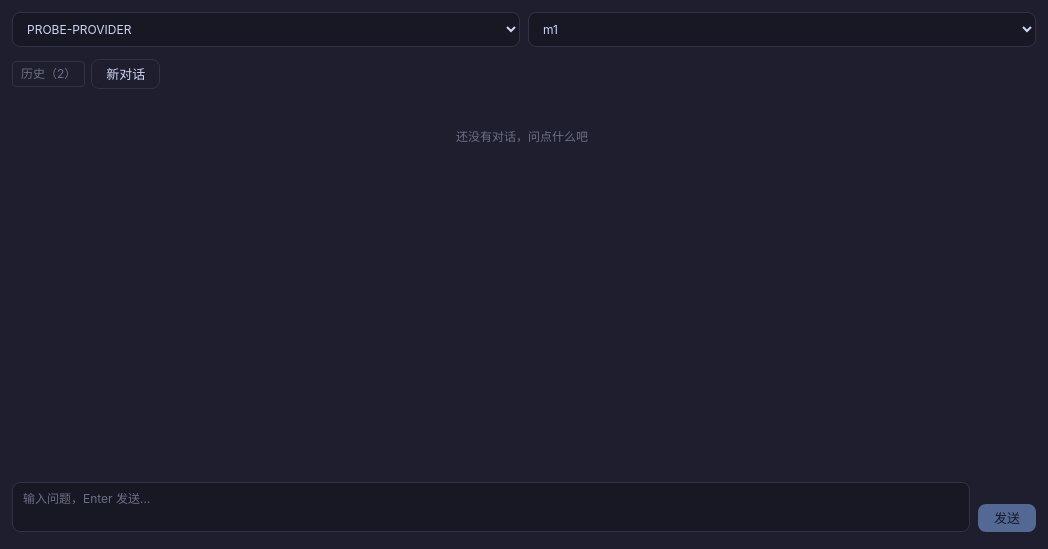
Test: ① 本库历史那一发：那句上屏、不报条数，出口是再点那一格（所以不造键） › 反向对照：读到两条 ⇒ 零 alert、按钮带数、条目上屏
Click the button "历史（2）".
click(49, 74)  # box [12,61,85,87]
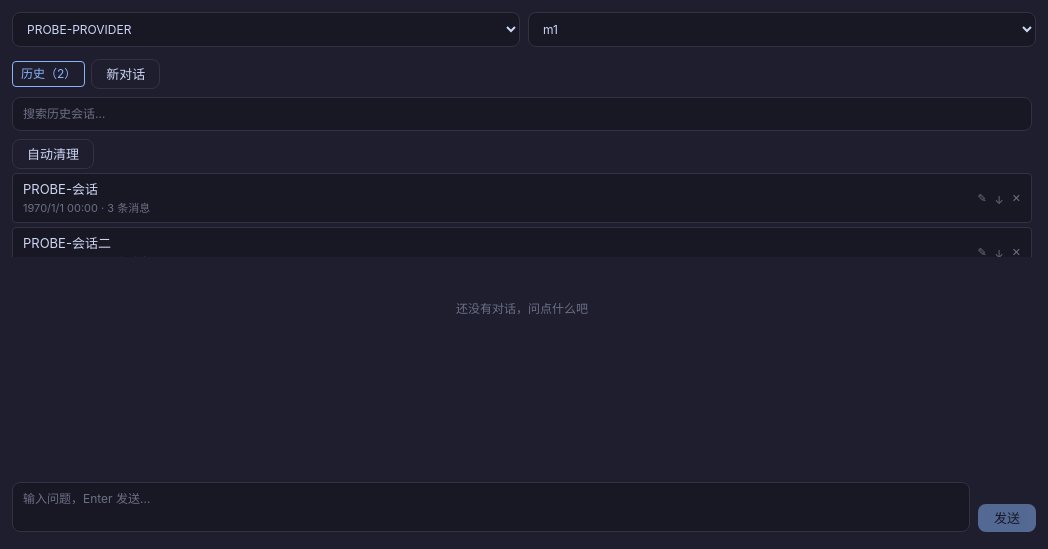
Check: the text "PROBE-会话二" is shown, box [23,235,111,251]
